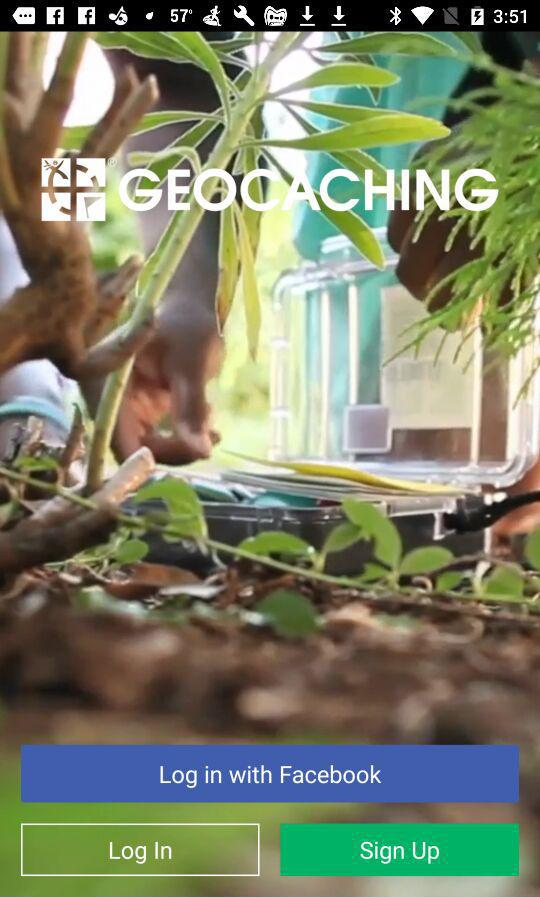BackgroundImage: (1, 33, 540, 897)
Image: (41, 157, 499, 223)
TextButton: (21, 744, 520, 803), (21, 822, 261, 877), (280, 823, 520, 877)
UpperTaskBar: (1, 1, 540, 33)
